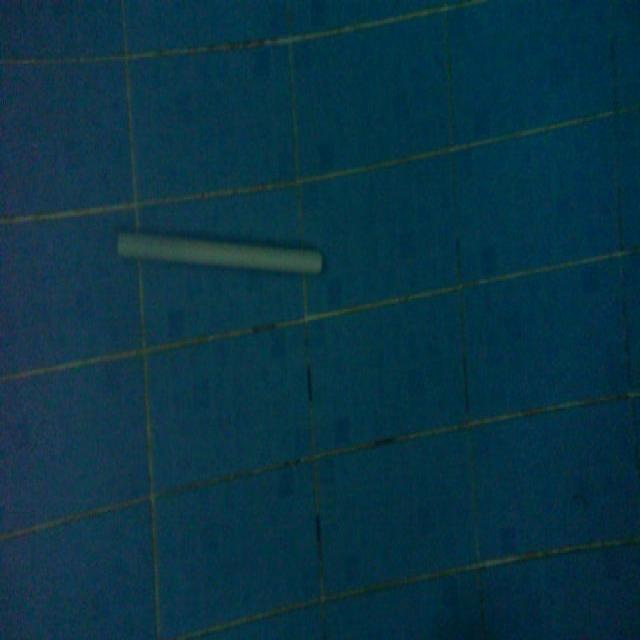Cube: (115, 220, 325, 281)
